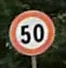limite 50: (7, 9, 55, 55)
